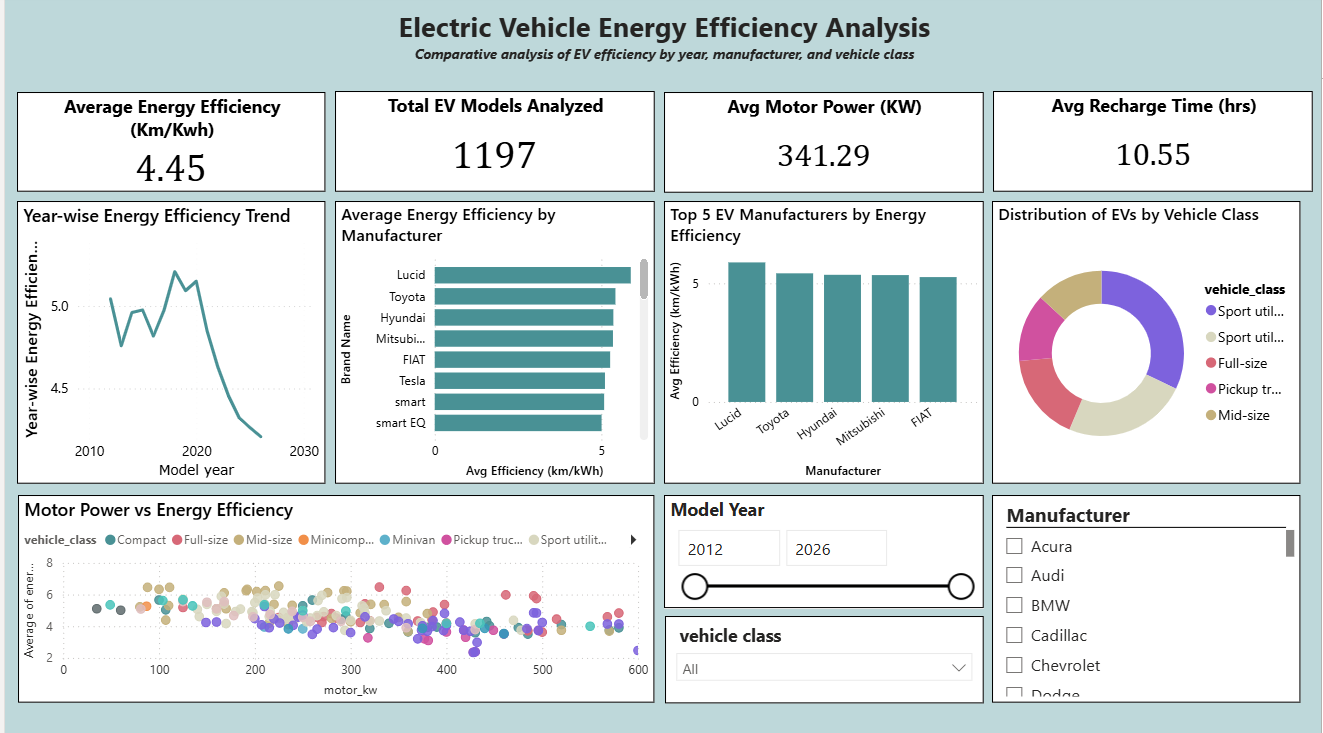

The page's visual inventory and layout, read from the dashboard file:
{"tool":"powerbi","page":{"name":"Page 1","canvas":[1280,720],"ordinal":0},"visuals":[{"type":"card","title":"Average Energy Efficiency (Km/Kwh)","fields":{"Values":["ev_data.Avg Efficiency (km/kWh)"]},"box":[11.7,94.4,299.8,97.3],"z":0},{"type":"card","title":"Total EV Models Analyzed","fields":{"Values":["ev_data.Total Vehicles"]},"box":[321.2,93.4,310.5,98.3],"z":1000},{"type":"card","title":"Avg Motor Power (KW)","fields":{"Values":["ev_data.Avg Motor Power (kW)"]},"box":[640.5,94.4,310.5,98.3],"z":2000},{"type":"card","title":"Avg Recharge Time (hrs)","fields":{"Values":["ev_data.Avg Recharge Time (hrs)"]},"box":[960.7,93.4,311.5,98.3],"z":3000},{"type":"lineChart","title":"Year-wise Energy Efficiency Trend","fields":{"Category":["vw_yearly_efficiency.Model_year"],"Y":["Avg(ev_data.energy_efficiency_km_per_kwh)"]},"box":[11.7,200.5,299.8,275.5],"z":4000},{"type":"barChart","title":"Average Energy Efficiency by Manufacturer","fields":{"Category":["vw_top_brands_efficiency.make"],"Y":["ev_data.Avg Efficiency (km/kWh)"]},"box":[321.2,200.5,310.5,275.5],"z":5000},{"type":"clusteredColumnChart","title":"Top 5 EV Manufacturers by Energy Efficiency","fields":{"Y":["ev_data.Avg Efficiency (km/kWh)"],"Category":["ev_data.make"]},"box":[640.5,200.5,310.5,275.5],"z":6000},{"type":"donutChart","title":"Distribution of EVs by Vehicle Class","fields":{"Category":["ev_data.vehicle_class"],"Y":["ev_data.Total Vehicles"]},"box":[959.8,200.5,299.8,275.5],"z":7000},{"type":"scatterChart","title":"Motor Power vs Energy Efficiency","fields":{"X":["ev_data.motor_kw"],"Series":["ev_data.vehicle_class"],"Y":["Avg(ev_data.energy_efficiency_km_per_kwh)"]},"box":[12.7,486.7,619.1,202.5],"z":8000},{"type":"slicer","title":"Model Year","fields":{"Values":["ev_data.model_year"]},"box":[640.5,486.7,310.5,110],"z":9000},{"type":"slicer","fields":{"Values":["ev_data.make"]},"box":[959.8,486.7,299.8,202.5],"z":10000},{"type":"slicer","fields":{"Values":["ev_data.vehicle_class"]},"box":[641.5,604.5,309.5,84.7],"z":11000},{"type":"textbox","box":[11.7,6.8,1259.6,63.2],"z":12000}]}

Visuals, with their boxes in screenshot pixels (x1, y1, x2, y2), scaled from the page's 1280x720 canvas onto the 1323x733 screenshot:
"Average Energy Efficiency (Km/Kwh)" card: pyautogui.locateOnScreen(12, 96, 322, 195)
"Total EV Models Analyzed" card: pyautogui.locateOnScreen(332, 95, 653, 195)
"Avg Motor Power (KW)" card: pyautogui.locateOnScreen(662, 96, 983, 196)
"Avg Recharge Time (hrs)" card: pyautogui.locateOnScreen(993, 95, 1315, 195)
"Year-wise Energy Efficiency Trend" lineChart: pyautogui.locateOnScreen(12, 204, 322, 485)
"Average Energy Efficiency by Manufacturer" barChart: pyautogui.locateOnScreen(332, 204, 653, 485)
"Top 5 EV Manufacturers by Energy Efficiency" clusteredColumnChart: pyautogui.locateOnScreen(662, 204, 983, 485)
"Distribution of EVs by Vehicle Class" donutChart: pyautogui.locateOnScreen(992, 204, 1302, 485)
"Motor Power vs Energy Efficiency" scatterChart: pyautogui.locateOnScreen(13, 495, 653, 702)
"Model Year" slicer: pyautogui.locateOnScreen(662, 495, 983, 607)
slicer - ev_data.make: pyautogui.locateOnScreen(992, 495, 1302, 702)
slicer - ev_data.vehicle_class: pyautogui.locateOnScreen(663, 615, 983, 702)
textbox: pyautogui.locateOnScreen(12, 7, 1314, 71)
